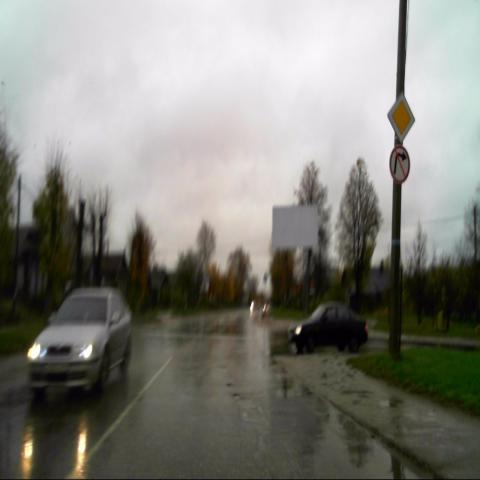3_18: (390, 145, 410, 183)
